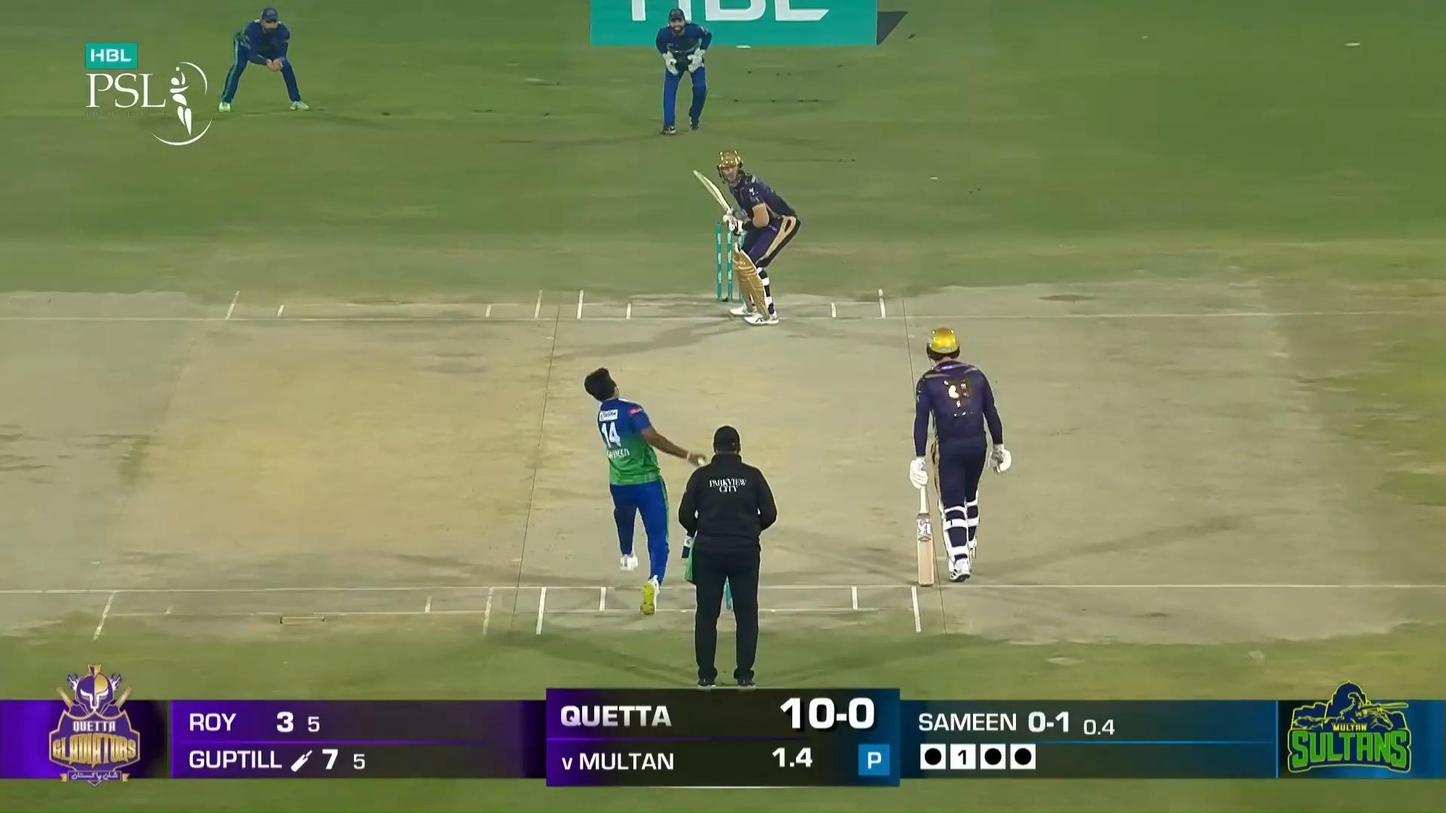batsman: (694, 150, 802, 326)
